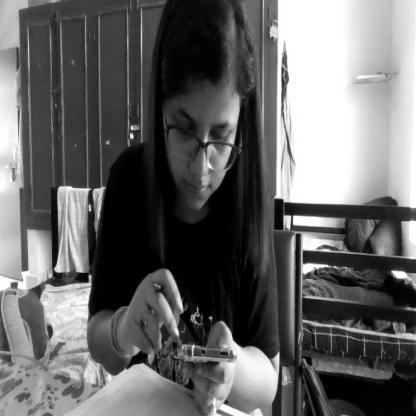Normal: (158, 0, 250, 221)
